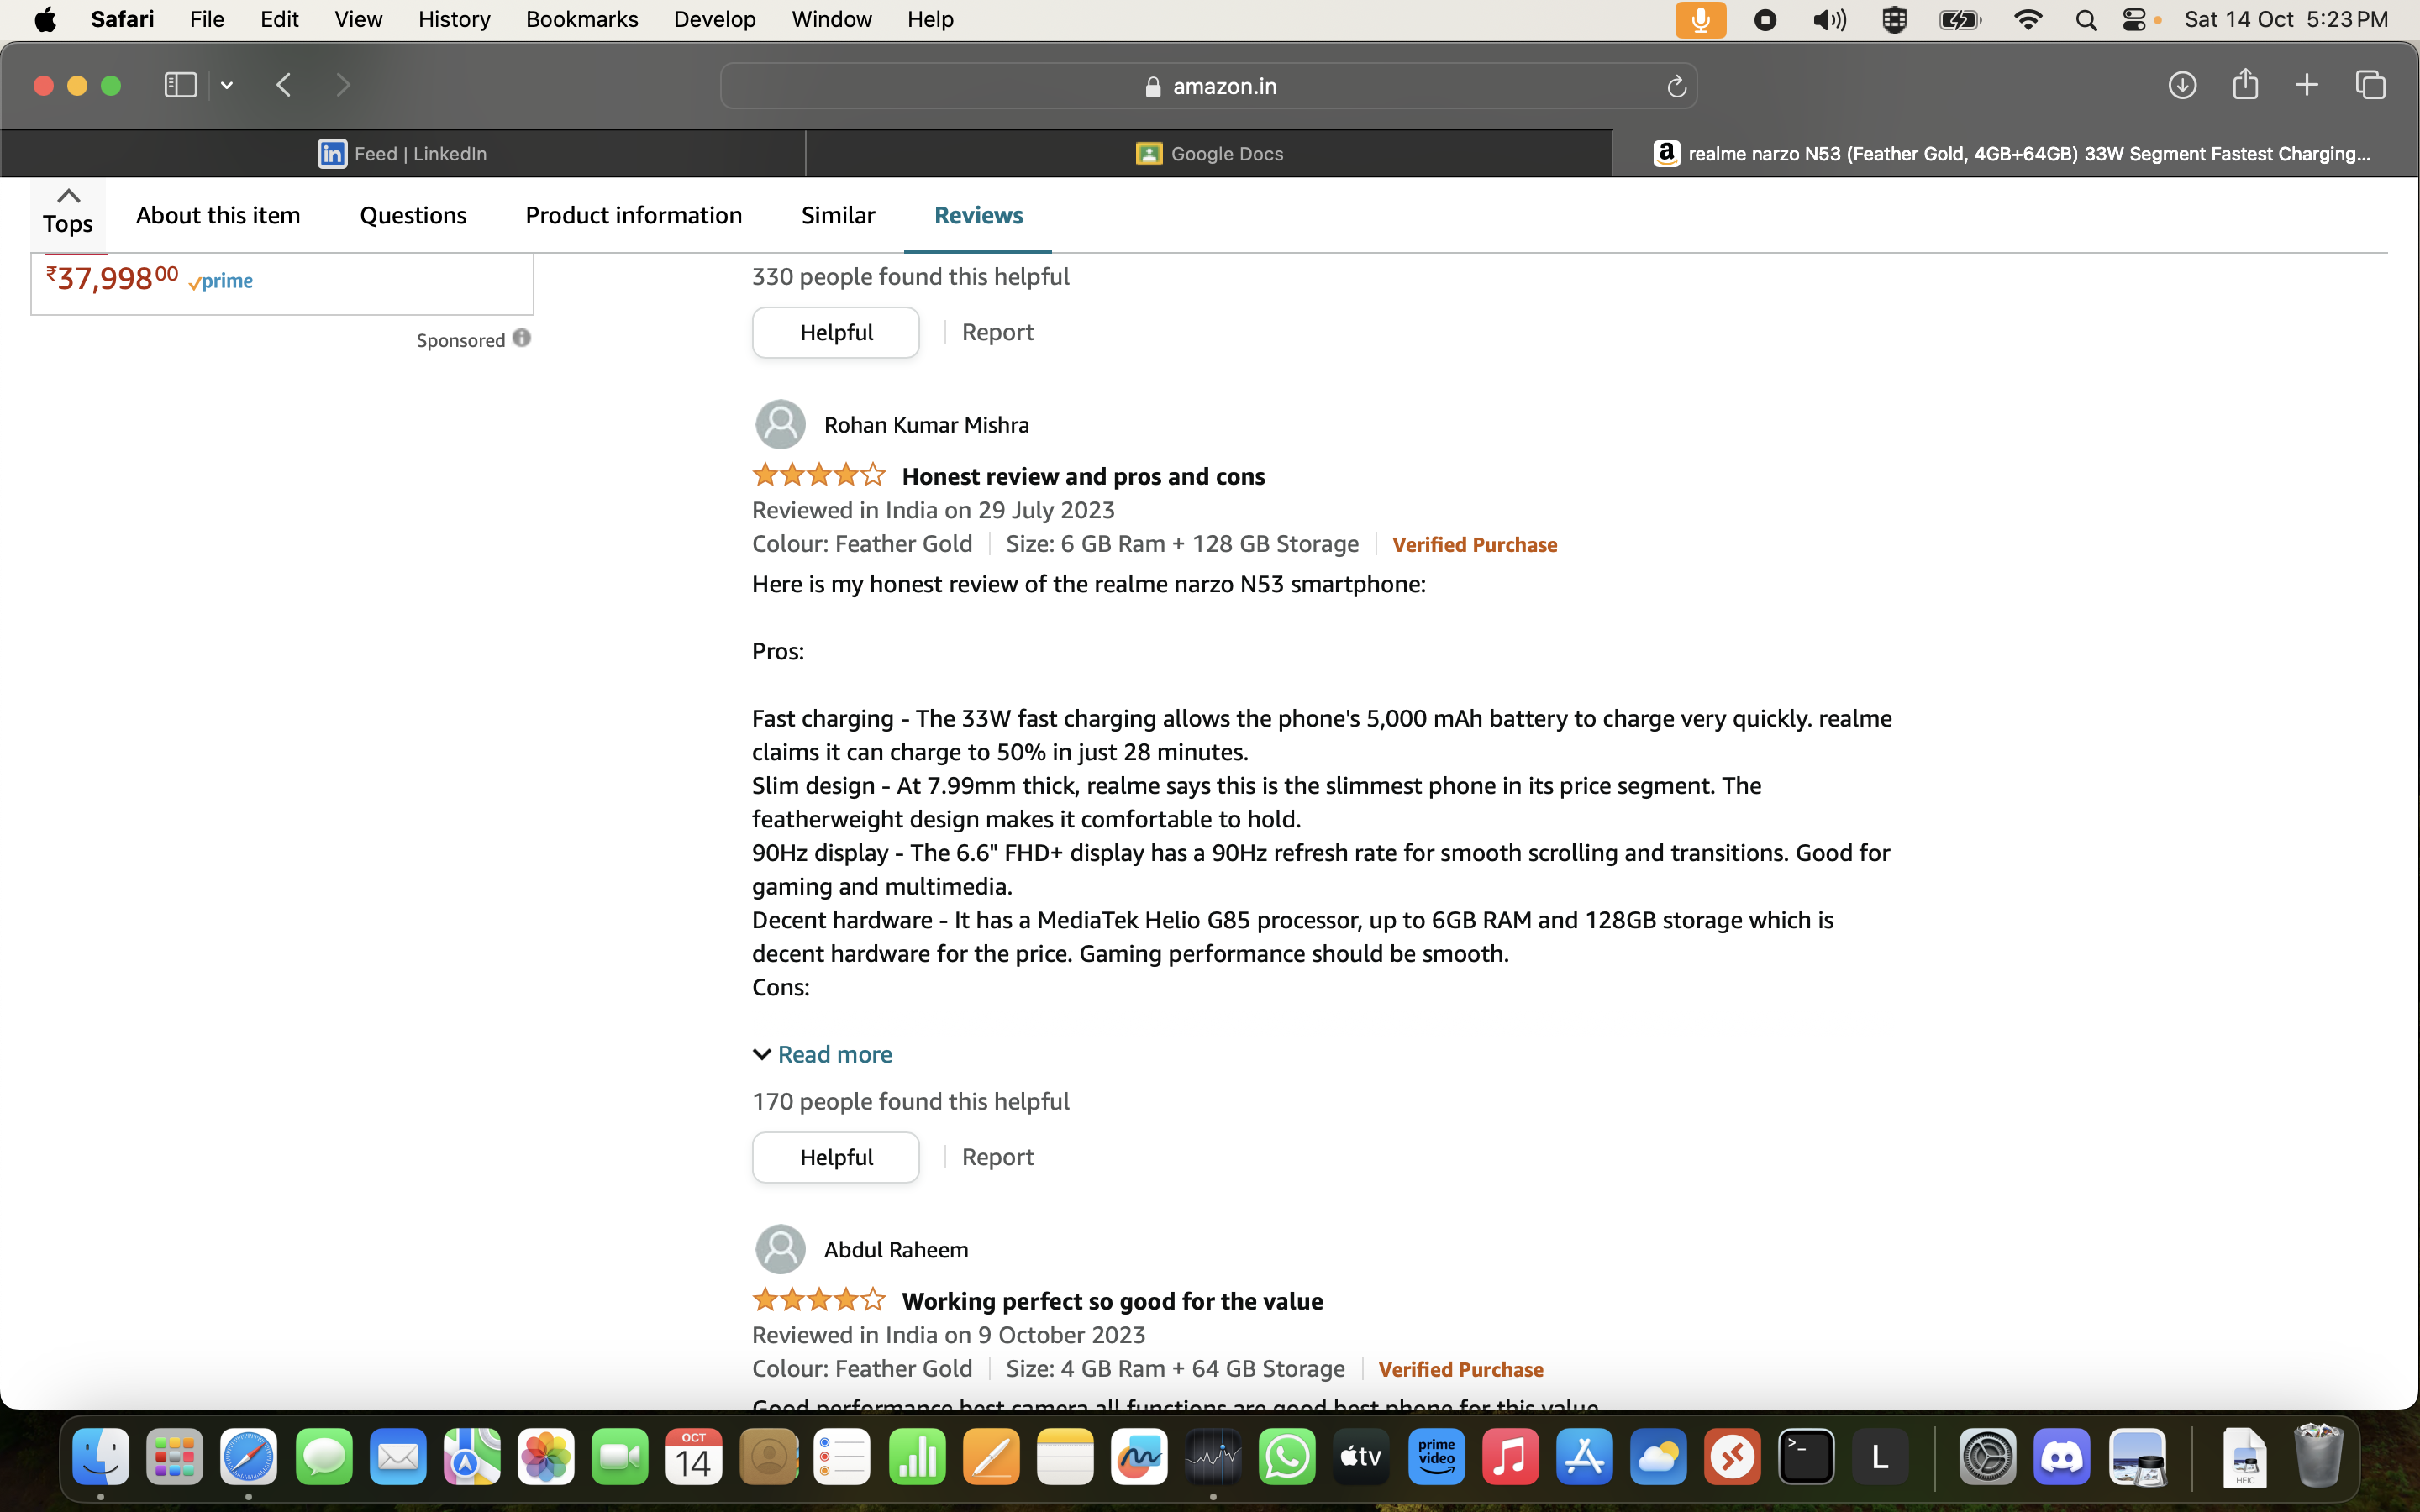Image: (751, 390, 814, 456), (754, 1218, 810, 1279)
Paragraph: (751, 697, 1901, 1009), (747, 559, 1441, 603), (747, 1350, 1352, 1385), (899, 1279, 1335, 1320), (740, 528, 1368, 556), (740, 1310, 1155, 1350), (124, 178, 319, 247), (744, 261, 1108, 298), (896, 460, 1282, 493), (504, 185, 737, 237), (737, 493, 1126, 524), (754, 1083, 1084, 1118), (49, 251, 192, 312), (772, 185, 896, 254), (946, 305, 1070, 368), (817, 1225, 981, 1272), (343, 185, 481, 237), (1375, 1353, 1561, 1392), (394, 319, 542, 364), (1385, 521, 1568, 556), (822, 415, 1033, 442), (772, 1031, 902, 1070), (786, 312, 889, 357), (957, 1134, 1038, 1186), (929, 202, 1049, 237), (35, 202, 117, 251), (779, 1144, 913, 1165), (747, 638, 817, 676)
